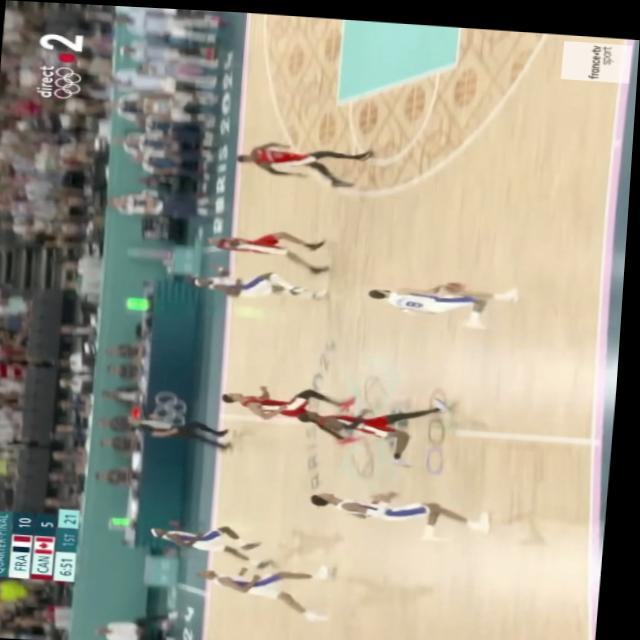ball_handler: (367, 269, 528, 319)
